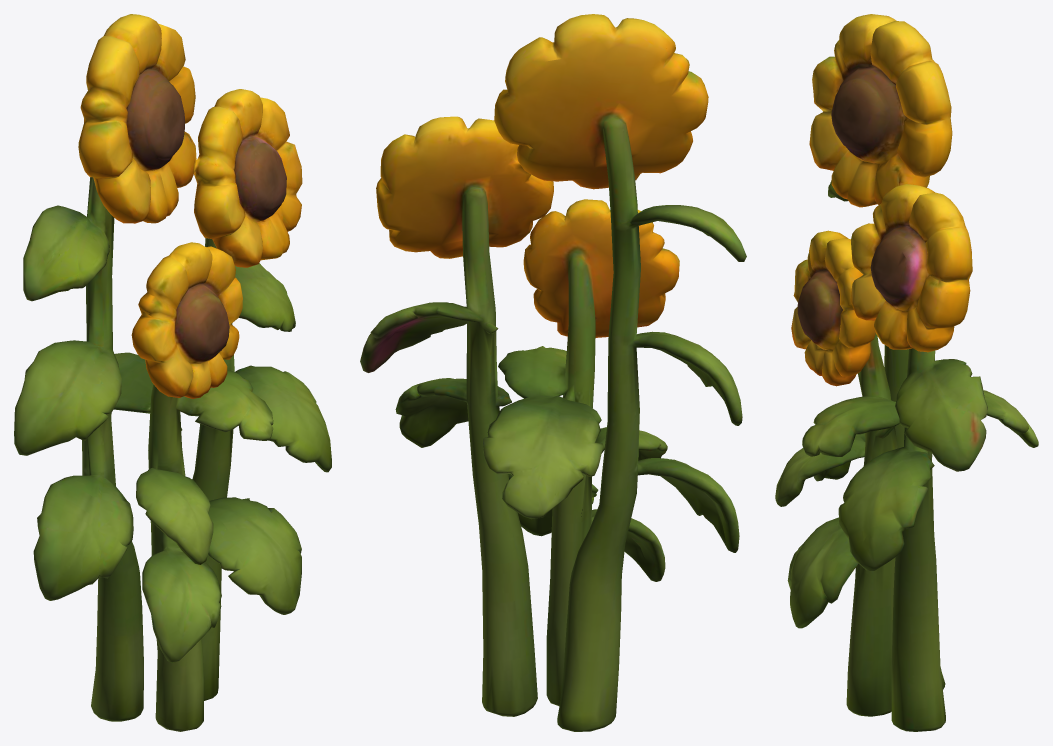
File: sunflowers.glb
3 views of the same model, side by side, from view 1: azimuth 30°, elevation 25°; view 2: azimuth 150°, elevation 25°; view 3: azimuth 270°, elevation 25° (orthographic). The views are drawn at different scales.
Parts seen in each view (by area): view 1: sunflowers; view 2: sunflowers; view 3: sunflowers.
Part boxes in pixels (x1=…): sunflowers: x1=14, y1=14, x2=331, y2=731; sunflowers: x1=360, y1=14, x2=746, y2=731; sunflowers: x1=775, y1=14, x2=1038, y2=731.
Size of the model in its own units: 0.8011 by 1.65 by 0.59.
Materials: 1 (1 with a texture image).
